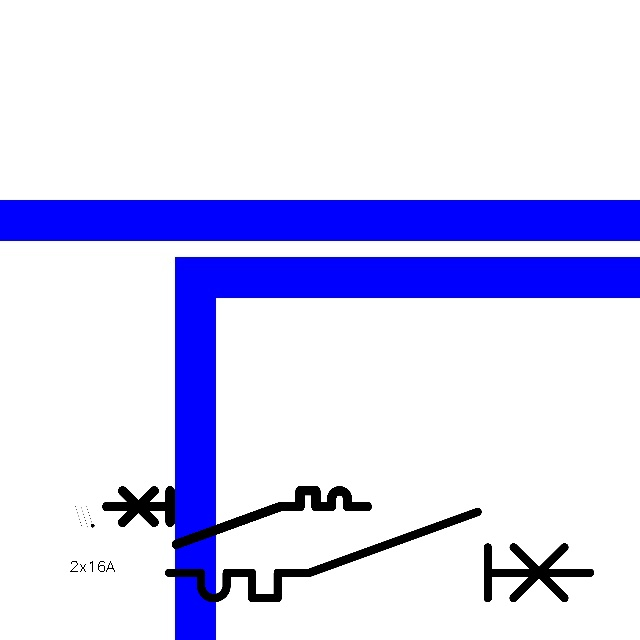interruptor_termomagnetico: (158, 501, 601, 609), (100, 484, 374, 551)
